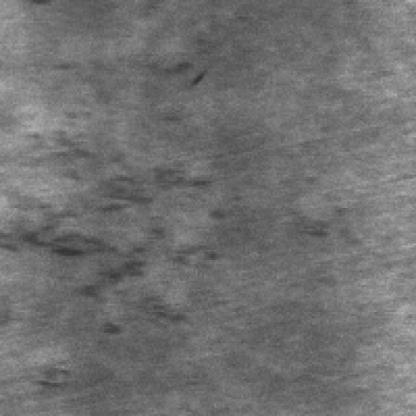rolled-in_scale: (0, 127, 212, 335), (54, 42, 210, 114)
